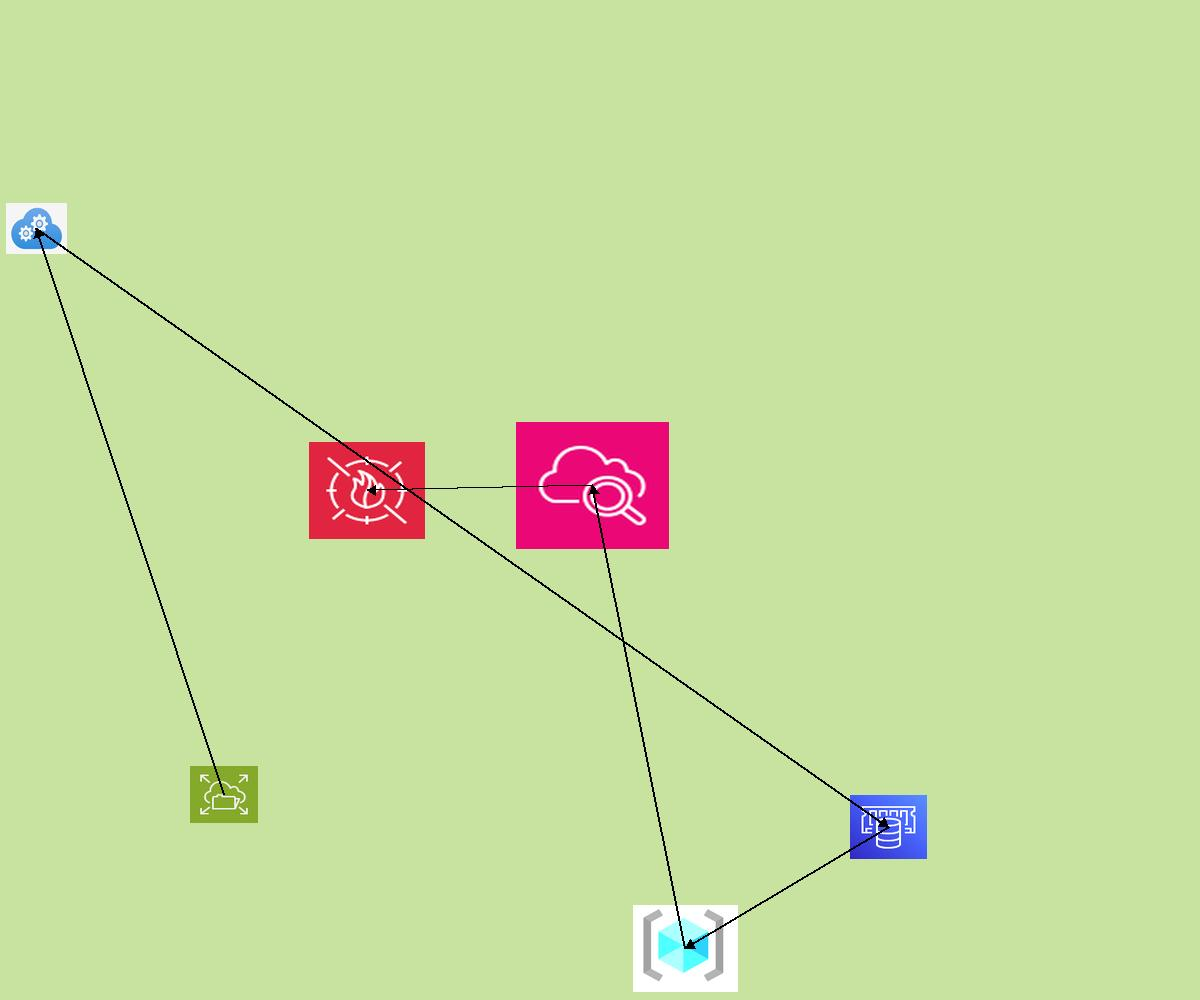AWS-CloudWatch: (516, 422, 669, 549)
AWS-EFS: (190, 766, 258, 823)
AWS-ElastiCache: (850, 795, 927, 859)
AWS-WAF: (309, 442, 425, 539)
Azure_cloud_services: (6, 203, 67, 254)
Azure_resource_group: (633, 905, 738, 992)
